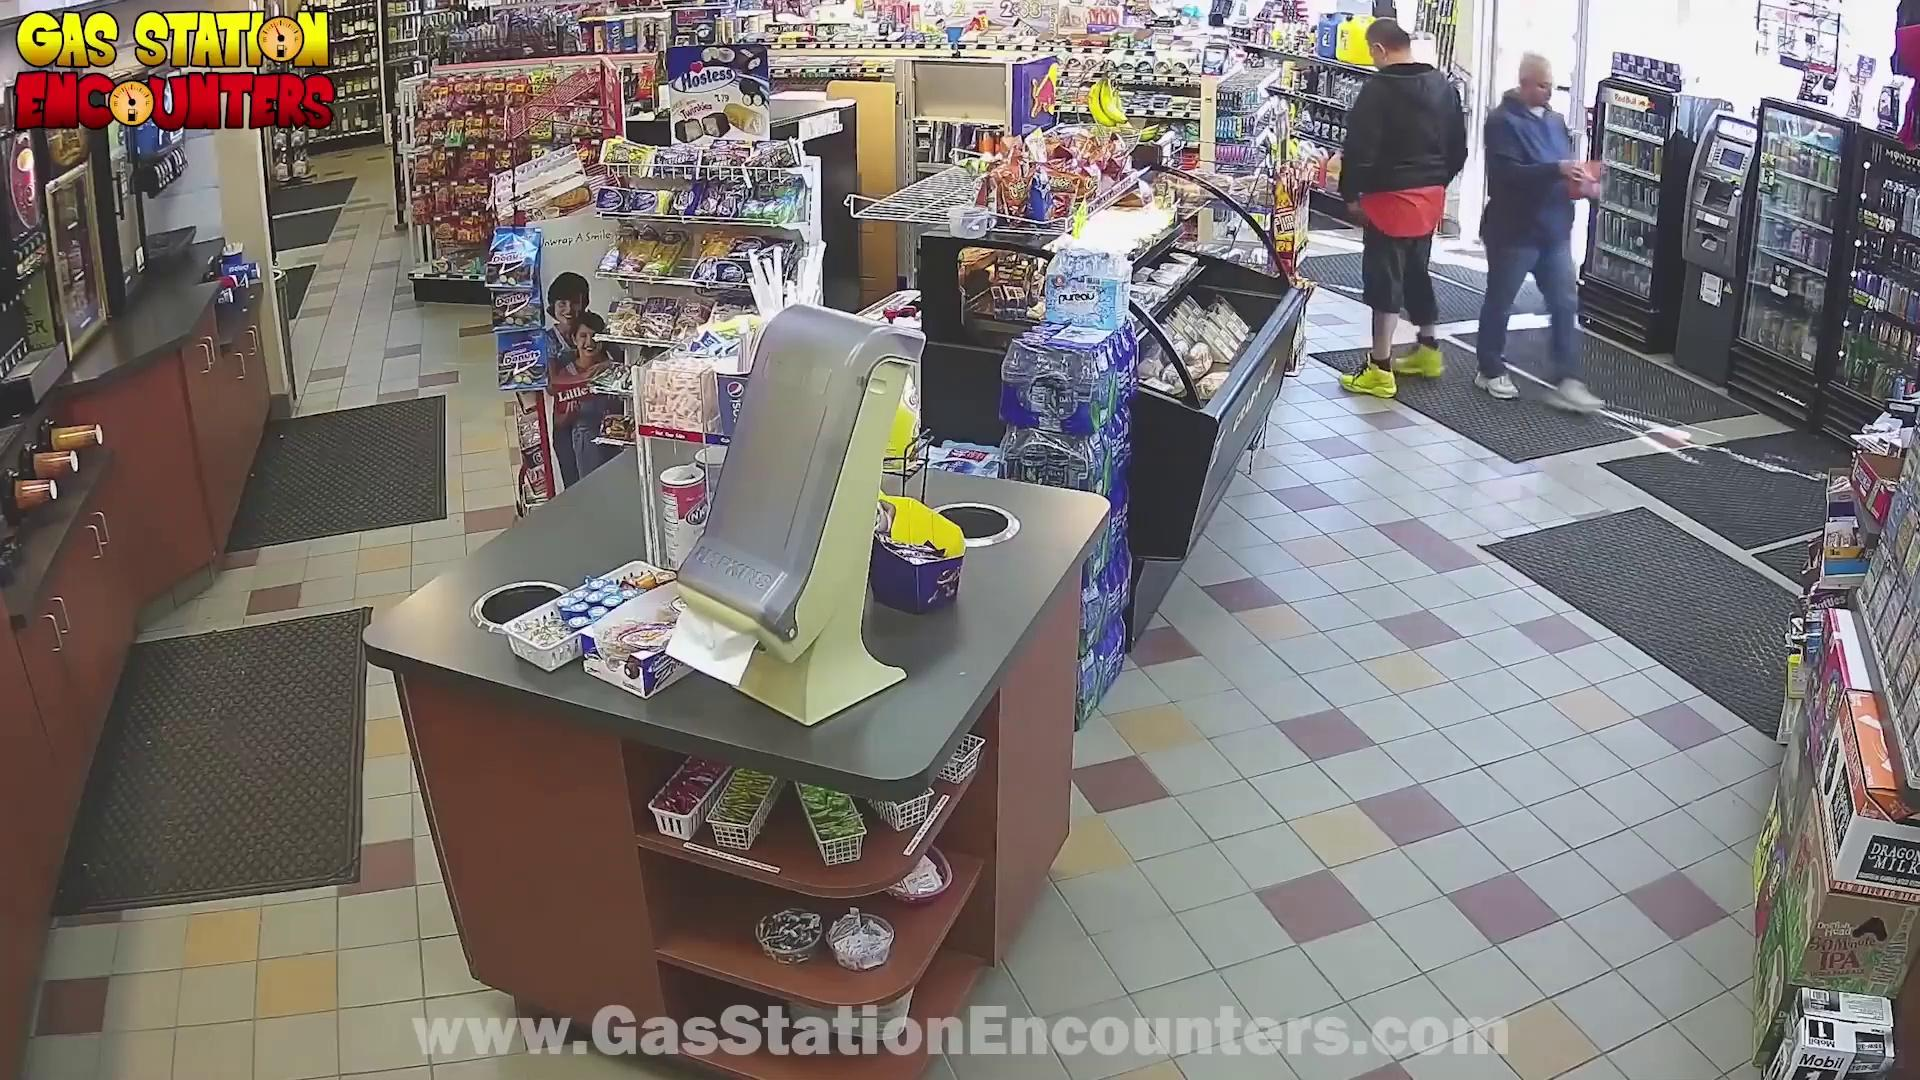Product: (1553, 145, 1615, 211)
Product-Picked: (1468, 36, 1621, 400)
Regular: (1312, 12, 1465, 444)
